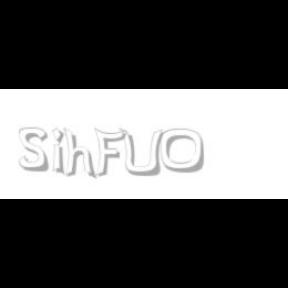F: (94, 128, 126, 178)
O: (160, 128, 206, 174)
S: (18, 128, 50, 172)
U: (118, 128, 163, 178)
h: (64, 128, 98, 180)
i: (52, 128, 68, 176)
